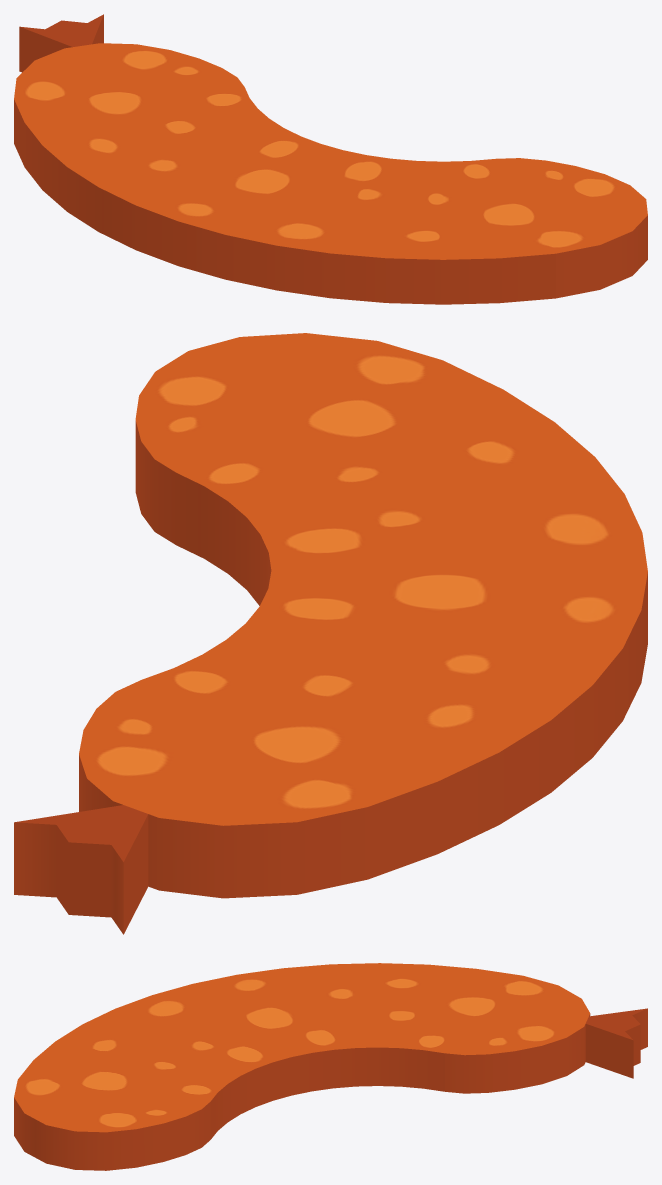
The model's file is Sausage_Slice_Sausage_0.glb.
The picture shows the model from 3 angles, top to bottom: view 1: azimuth 30°, elevation 25°; view 2: azimuth 150°, elevation 25°; view 3: azimuth 270°, elevation 25°; orthographic projection. The views are drawn at different scales.
Visible parts, largest first — view 1: Sausage_Slice_Sausage_0; view 2: Sausage_Slice_Sausage_0; view 3: Sausage_Slice_Sausage_0.
Boxes of the visible parts, bbox=[...] form: Sausage_Slice_Sausage_0: bbox=[14, 14, 647, 304]; Sausage_Slice_Sausage_0: bbox=[14, 333, 647, 934]; Sausage_Slice_Sausage_0: bbox=[14, 963, 647, 1170].
Bounding box in the file's own units: 0.0943 × 0.01 × 0.1493.
Materials: 1 (1 with a texture image).
